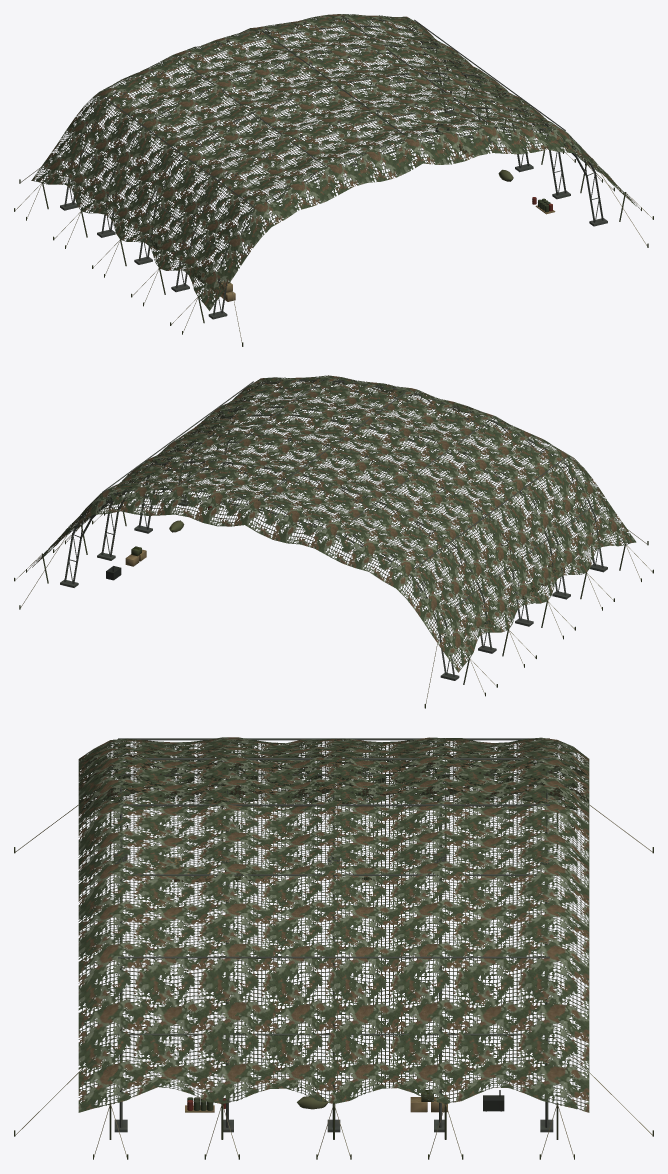
File: camo_net_hangar.glb
3 renders of one model, top to bottom at view 1: azimuth 30°, elevation 25°; view 2: azimuth 150°, elevation 25°; view 3: azimuth 270°, elevation 25°, orthographic. The views are drawn at different scales.
Visible parts, largest first — view 1: lod0, frame_lod0; view 2: lod0, frame_lod0; view 3: lod0, frame_lod0.
Part boxes in pixels (<box>): lod0: <box>14,14,653,346</box>; frame_lod0: <box>60,16,607,319</box>; lod0: <box>14,375,653,708</box>; frame_lod0: <box>60,378,607,680</box>; lod0: <box>14,737,653,1159</box>; frame_lod0: <box>114,738,553,1132</box>.
Size of what is drawn, in the model's own units: 73.32 by 19.88 by 60.14.
2 materials, 2 textured.
